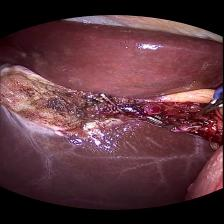Bipolar: (196, 82, 224, 118)
